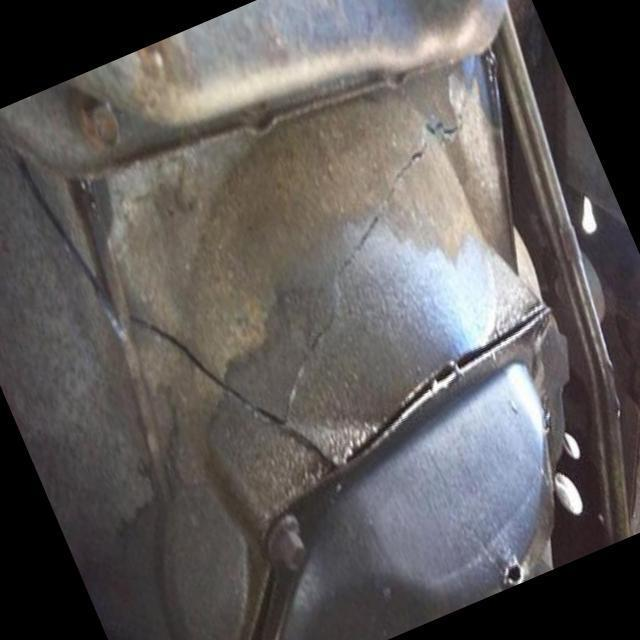defect: (124, 46, 477, 436), (11, 148, 130, 340)
